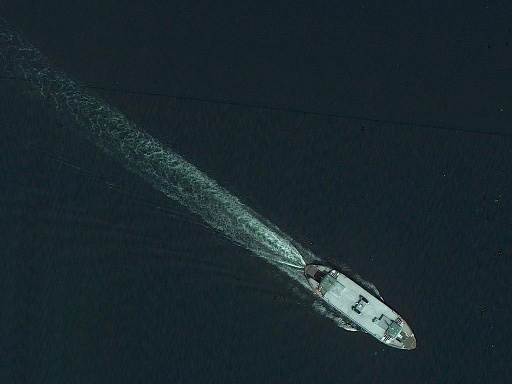ship: (295, 253, 428, 360)
